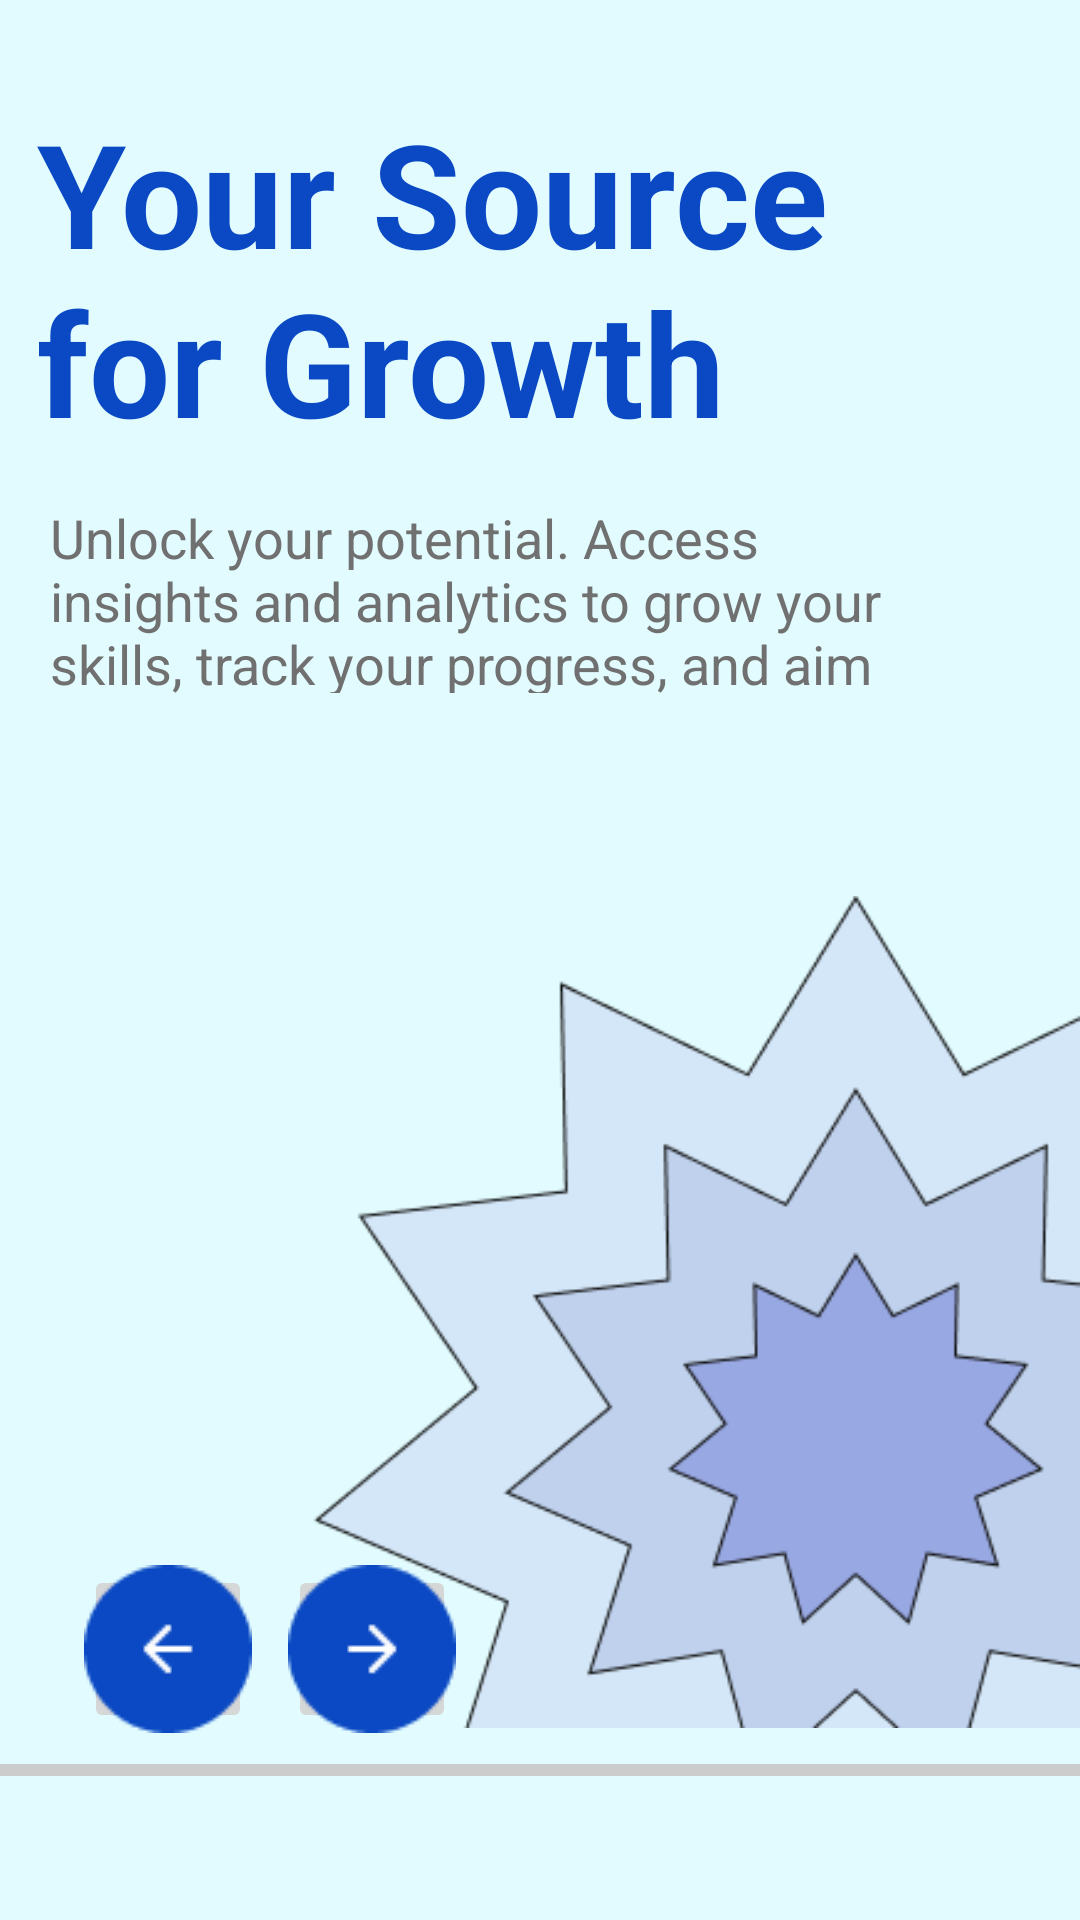

Screen size 1080px x 1920px. Icon name, then its box in pixels as (x1, y1, x2, y2):
back: (84, 1565, 252, 1733)
next: (288, 1565, 456, 1733)
